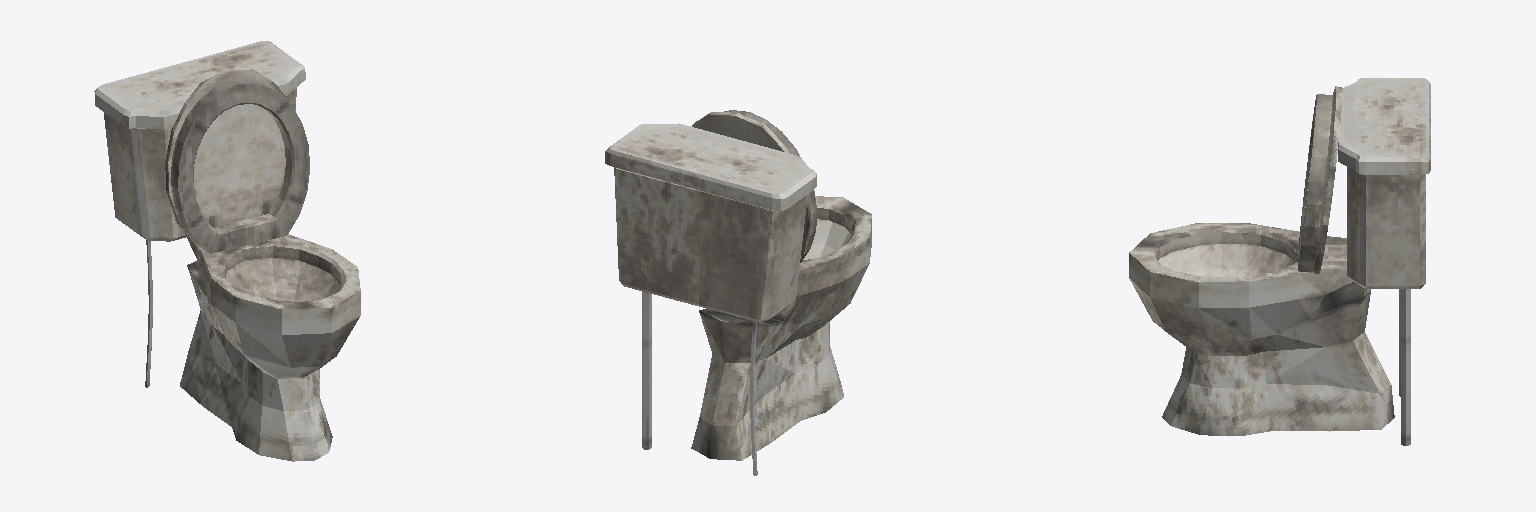
The picture shows the model from 3 angles: view 1: azimuth 30°, elevation 25°; view 2: azimuth 150°, elevation 25°; view 3: azimuth 270°, elevation 25°; orthographic projection.
Size of the model in its own units: 0.4551 by 0.7884 by 0.6596.
Materials: 1 (1 with a texture image).